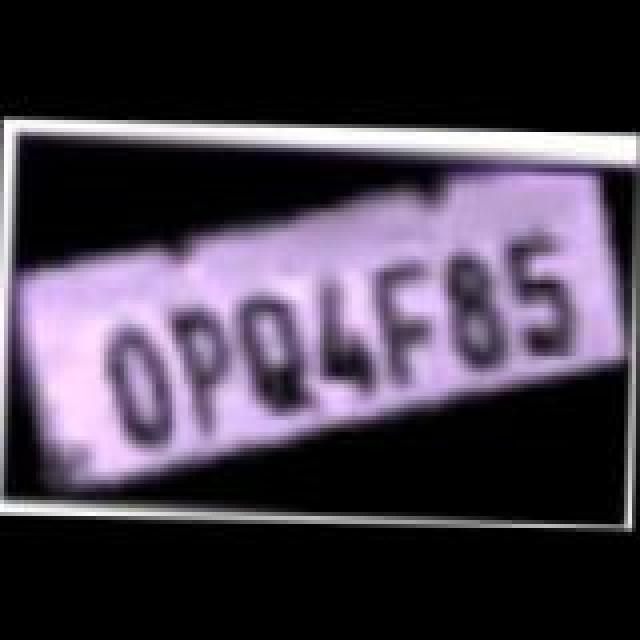4: (286, 272, 398, 404)
5: (484, 228, 600, 356)
8: (420, 240, 528, 368)
F: (356, 254, 472, 386)
O: (84, 318, 196, 450)
P: (154, 300, 266, 436)
Q: (222, 290, 334, 418)
